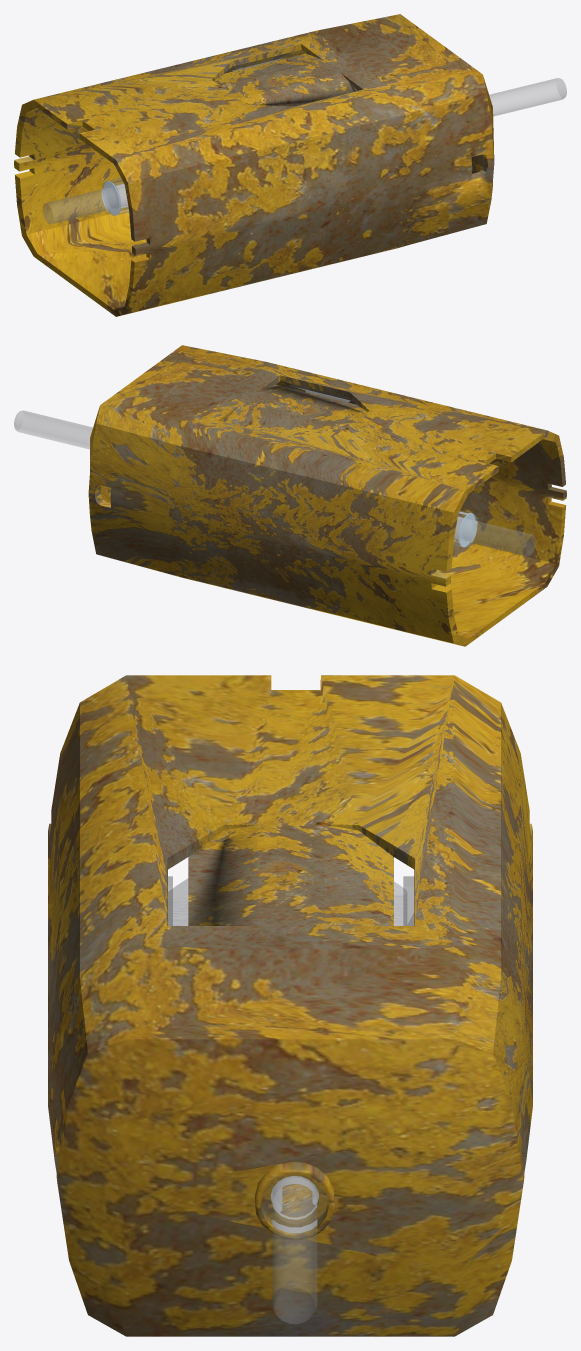
File: jellyfish-model.glb
The picture shows the model from 3 angles, top to bottom: view 1: azimuth 30°, elevation 25°; view 2: azimuth 150°, elevation 25°; view 3: azimuth 270°, elevation 25°; orthographic projection. The views are drawn at different scales.
Visible parts, largest first — view 1: MotorOBJ; view 2: MotorOBJ; view 3: MotorOBJ.
Part boxes in pixels (x1=…): MotorOBJ: x1=14, y1=14, x2=566, y2=316; MotorOBJ: x1=14, y1=345, x2=566, y2=646; MotorOBJ: x1=48, y1=675, x2=532, y2=1336.
Size of the model in its own units: 95.71 by 27.93 by 39.27.
Materials: 10 (4 with a texture image).
